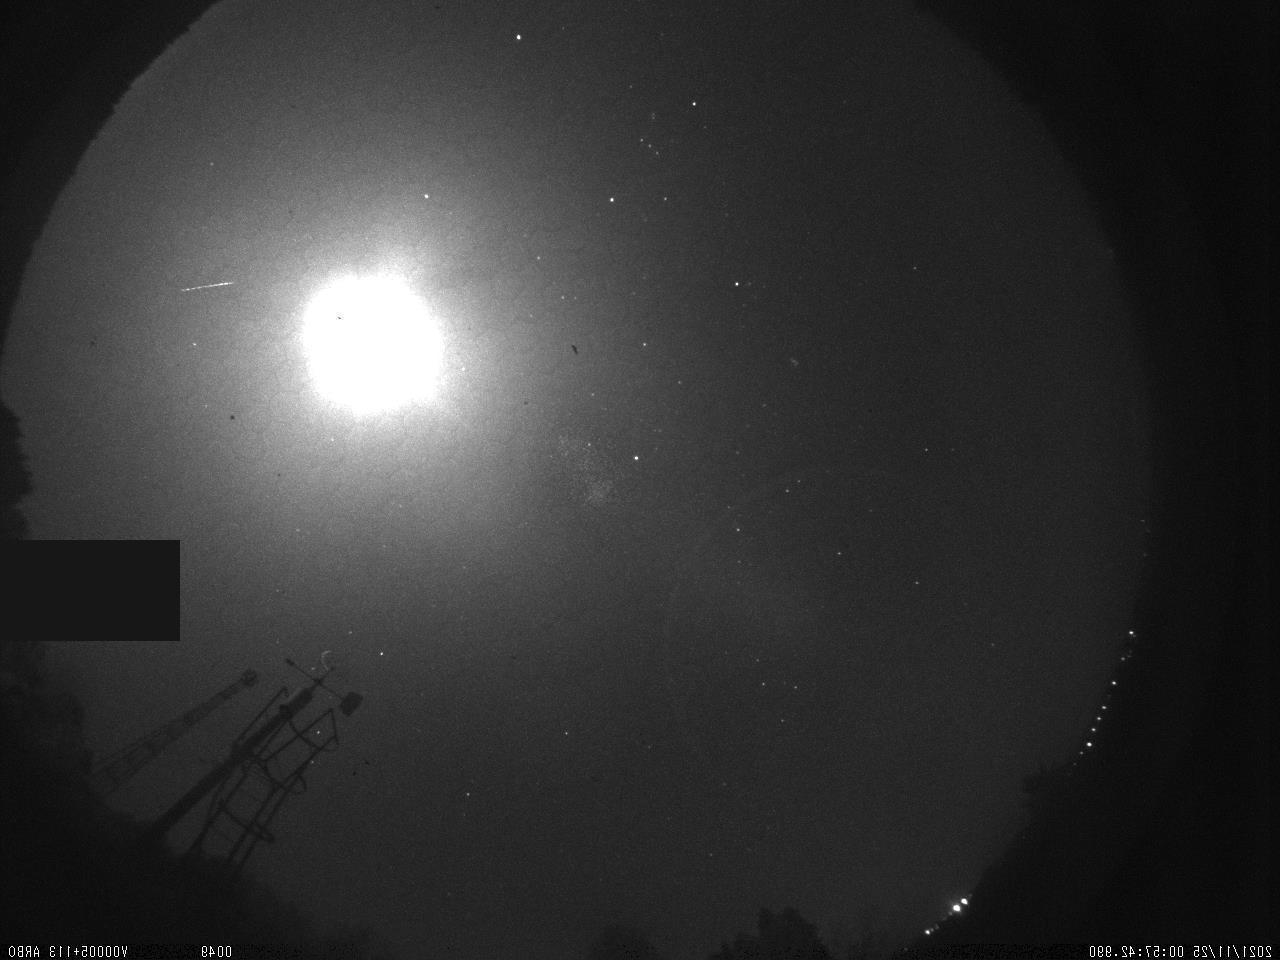meteor: (170, 271, 241, 301)
